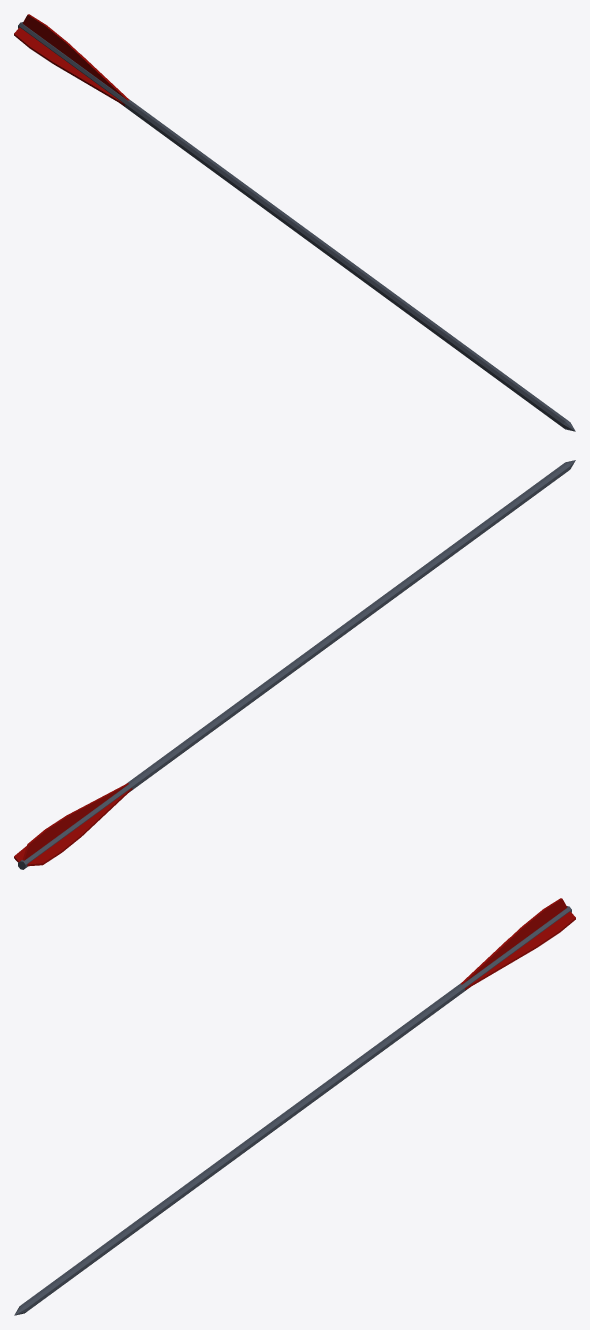
The model's file is Arrow.fbx.
3 renders of one model, top to bottom at view 1: azimuth 30°, elevation 25°; view 2: azimuth 150°, elevation 25°; view 3: azimuth 330°, elevation 25°, orthographic.
Visible parts, largest first — view 1: Bolt; view 2: Bolt; view 3: Bolt.
Part boxes in pixels (left/top/right/bottom): Bolt: left=14, top=14, right=575, bottom=431; Bolt: left=14, top=460, right=575, bottom=869; Bolt: left=14, top=898, right=575, bottom=1315.
Bounding box in the file's own units: 1.5 × 1 × 45.
